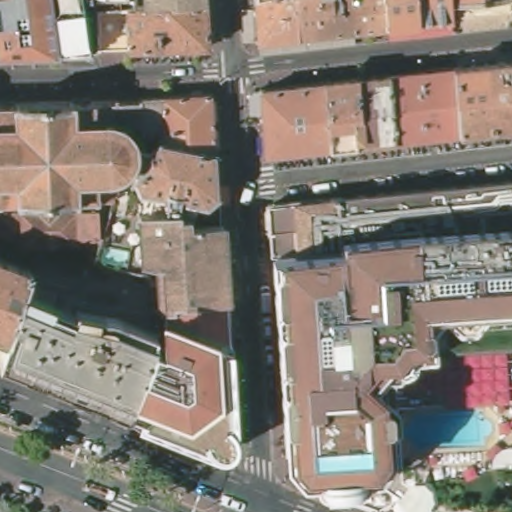pool: (400, 405, 497, 452), (307, 447, 382, 476), (94, 243, 135, 274)
